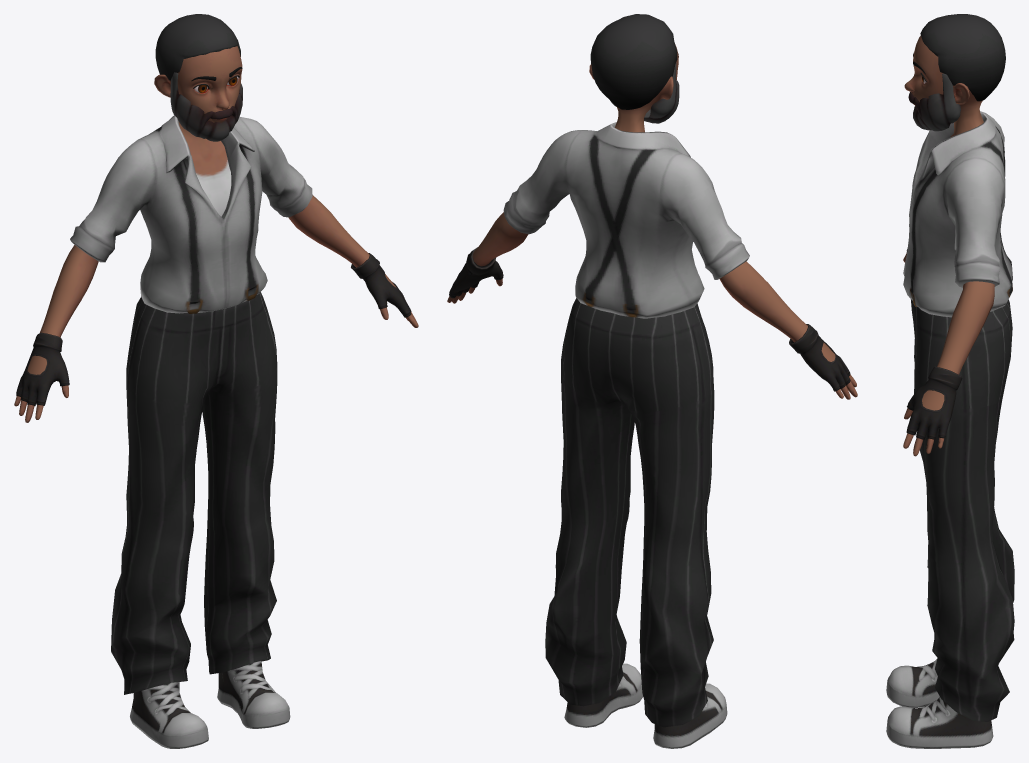
Rendered from StaffFisherman_Mesh.obj.
3 renders of one model, left to right at view 1: azimuth 30°, elevation 25°; view 2: azimuth 150°, elevation 25°; view 3: azimuth 270°, elevation 25°, orthographic.
Parts seen in each view (by area): view 1: StaffFisherman_Mesh_0; view 2: StaffFisherman_Mesh_0; view 3: StaffFisherman_Mesh_0.
Boxes of the visible parts, box(x1,y1,x2,y2) form: StaffFisherman_Mesh_0: box(14, 14, 418, 748); StaffFisherman_Mesh_0: box(447, 14, 857, 748); StaffFisherman_Mesh_0: box(886, 14, 1014, 748).
Size of the model in its own units: 1.06 by 1.79 by 0.2966.
1 material, 1 textured.
